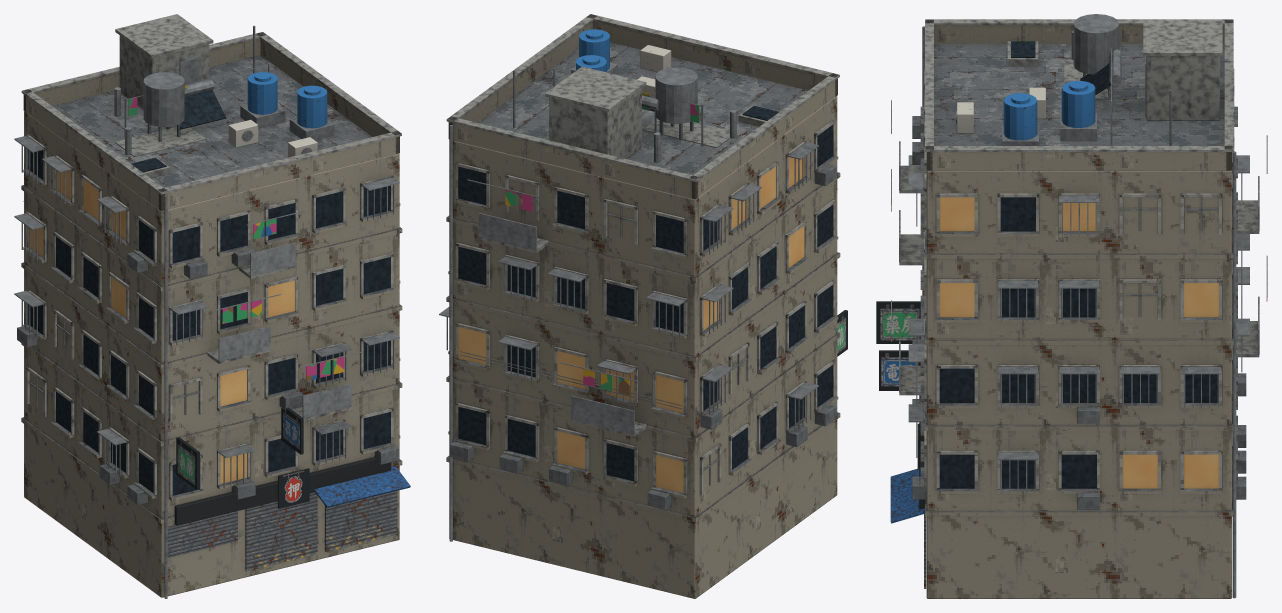
The model's file is city_tower.glb.
3 renders of one model, left to right at view 1: azimuth 30°, elevation 25°; view 2: azimuth 150°, elevation 25°; view 3: azimuth 270°, elevation 25°, orthographic. The views are drawn at different scales.
Visible parts, largest first — view 1: city_tower; view 2: city_tower; view 3: city_tower.
Part boxes in pixels (x1=…): city_tower: x1=14, y1=14, x2=410, y2=598; city_tower: x1=439, y1=14, x2=847, y2=598; city_tower: x1=876, y1=14, x2=1267, y2=598.
Size of the model in its own units: 11.19 by 18.02 by 12.81.
Materials: 18 (18 with a texture image).
